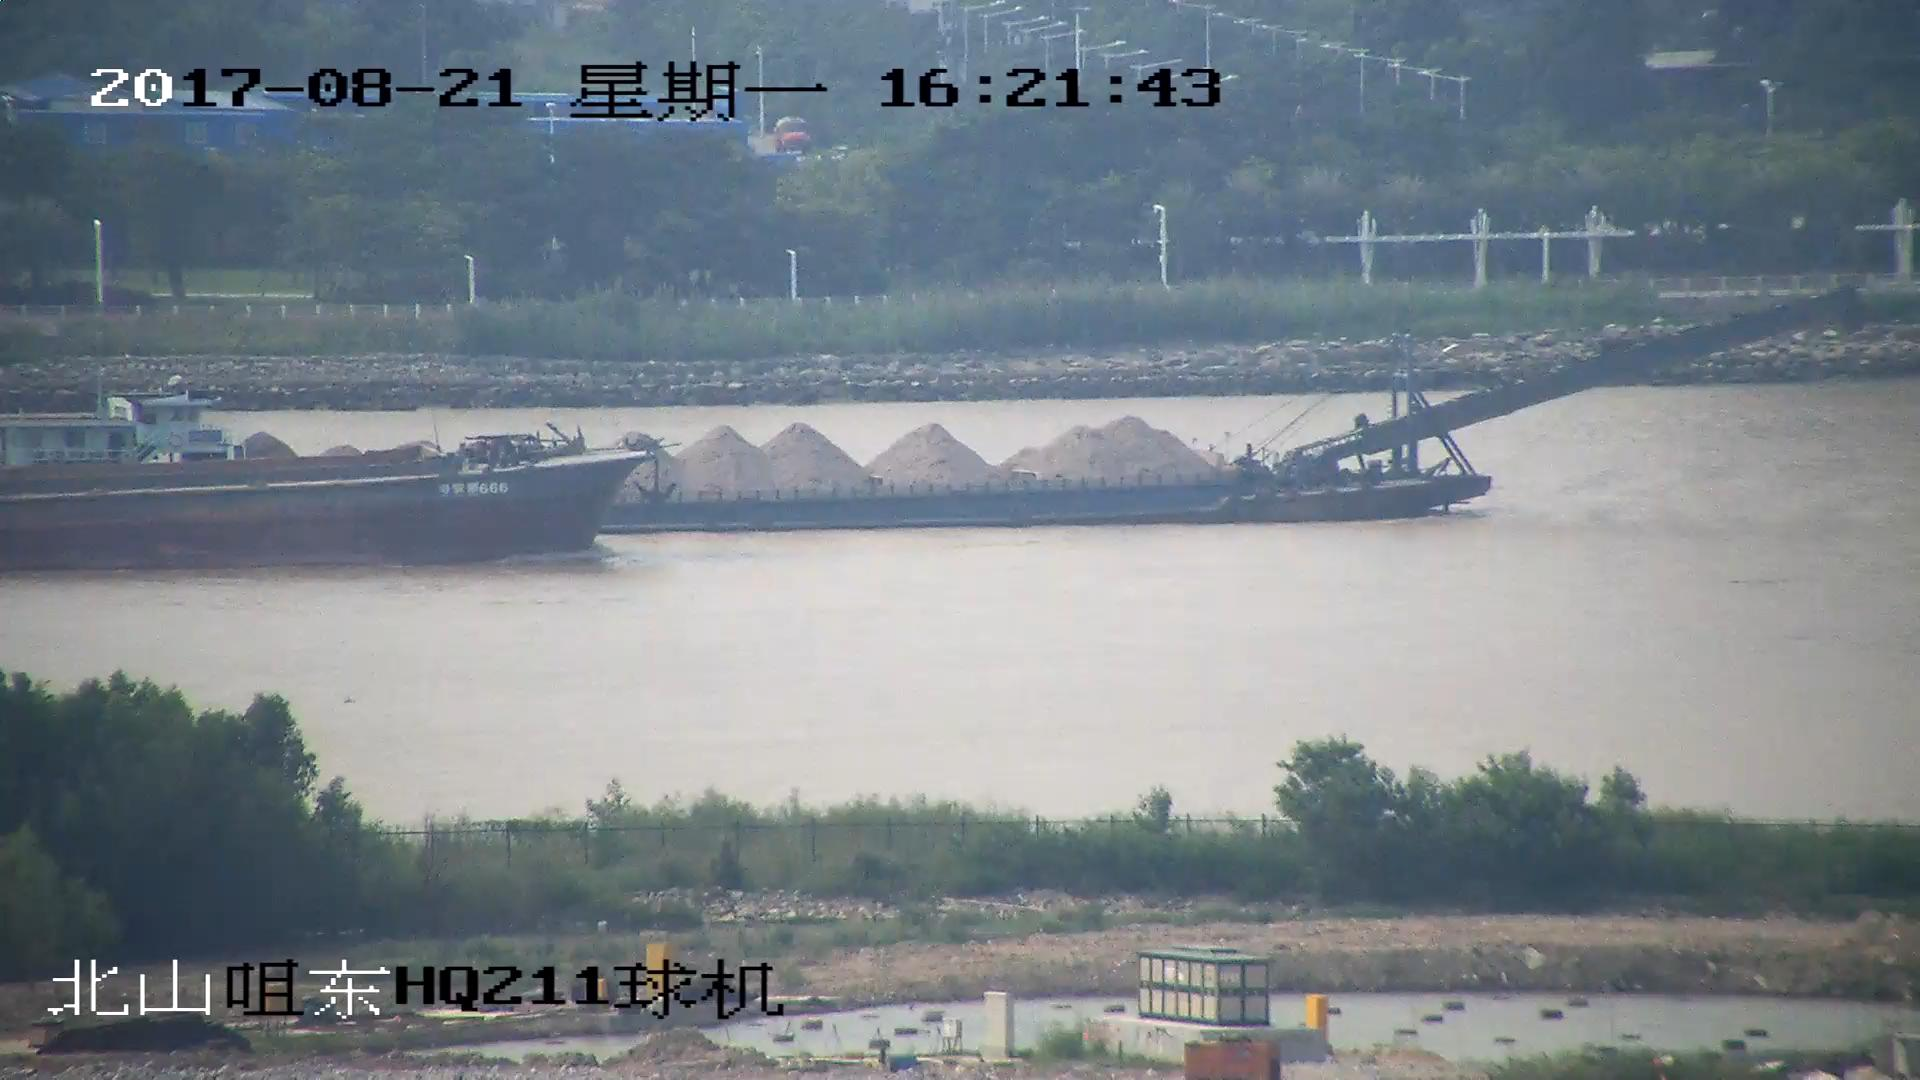bulk cargo carrier: (1, 439, 665, 572)
ore carrier: (1, 291, 1857, 536)
